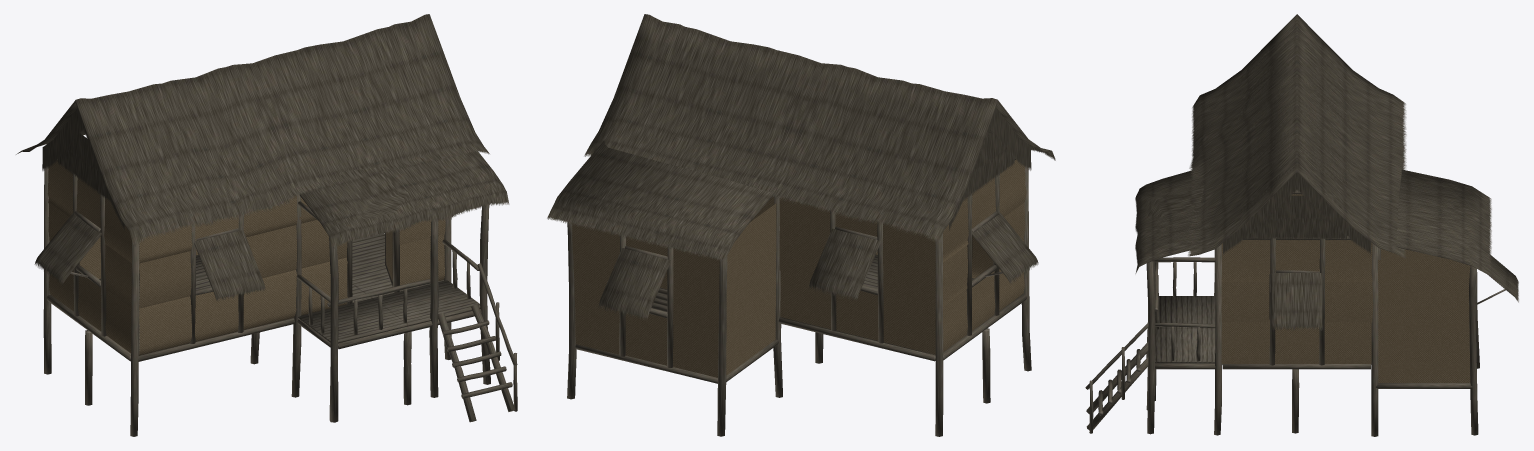
Rendered from straw.glb.
3 views of the same model, side by side, from view 1: azimuth 30°, elevation 25°; view 2: azimuth 150°, elevation 25°; view 3: azimuth 270°, elevation 25° (orthographic). The views are drawn at different scales.
Visible parts, largest first — view 1: atap_house_0; view 2: atap_house_0; view 3: atap_house_0.
Part boxes in pixels (bbox=[...]): atap_house_0: bbox=[16, 14, 517, 436]; atap_house_0: bbox=[547, 14, 1055, 436]; atap_house_0: bbox=[1085, 14, 1518, 436].
Bounding box in the file's own units: 8.05 × 5.93 × 8.4.
Materials: 1 (1 with a texture image).
